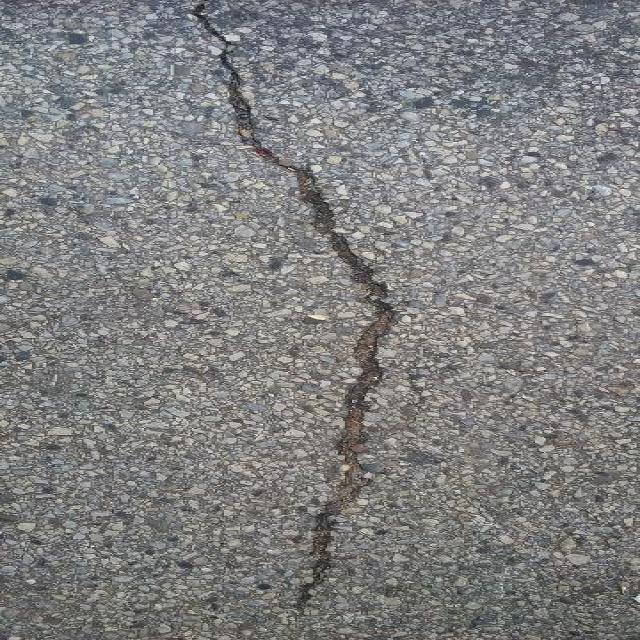GRIETA: (192, 2, 394, 610)
